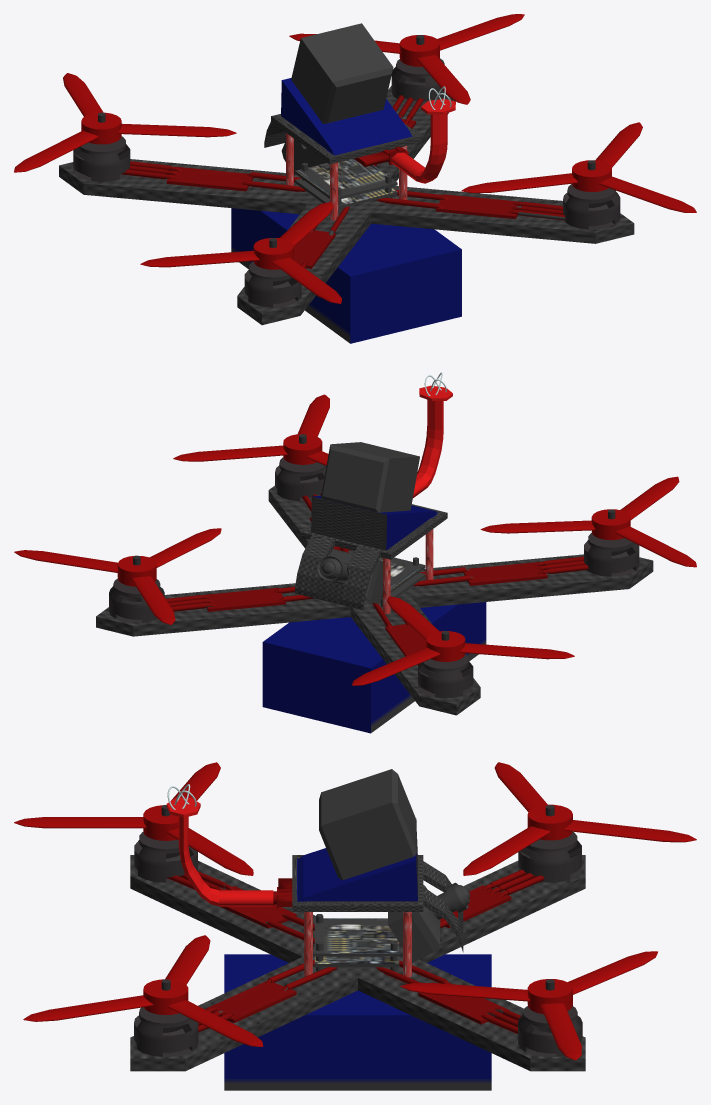
The model's file is x frame textured.FBX.
3 renders of one model, top to bottom at view 1: azimuth 30°, elevation 25°; view 2: azimuth 150°, elevation 25°; view 3: azimuth 270°, elevation 25°, orthographic. The views are drawn at different scales.
Visible parts, largest first — view 1: Box001, Box013, Box005, Box004, Cylinder026, Cylinder024, Cylinder025, Cylinder027, Cylinder019, Cylinder021, Motor, Box003 (+8 smaller); view 2: Box001, Box013, Box004, Box005, Cylinder025, Cylinder024, Cylinder027, Cylinder026, Cylinder020, Cylinder018, Motor003, Motor002 (+6 smaller); view 3: Box001, Box013, Box005, Box004, Cylinder027, Cylinder024, Cylinder026, Cylinder025, Box003, Motor, Cylinder022, Cylinder019 (+11 smaller).
Part boxes in pixels (x1,y1,x2,y2): Box001: (59, 86, 634, 325); Box013: (231, 208, 461, 343); Box005: (291, 23, 393, 123); Box004: (264, 78, 421, 164); Cylinder026: (461, 122, 696, 212); Cylinder024: (14, 73, 236, 172); Cylinder025: (140, 202, 341, 303); Cylinder027: (289, 14, 524, 104); Cylinder019: (376, 189, 565, 220); Cylinder021: (121, 161, 305, 191); Motor: (563, 160, 620, 229); Box003: (295, 159, 397, 199); Box001: (96, 485, 653, 715); Box013: (262, 602, 486, 733); Box004: (295, 495, 447, 609); Box005: (321, 442, 419, 512); Cylinder025: (480, 476, 696, 567); Cylinder024: (352, 596, 574, 685); Cylinder027: (14, 528, 221, 624); Cylinder026: (173, 394, 329, 465); Cylinder020: (413, 556, 588, 586); Cylinder018: (166, 586, 314, 611); Motor003: (418, 631, 473, 698); Motor002: (584, 509, 639, 576); Box001: (130, 855, 585, 1071); Box013: (224, 954, 491, 1090); Box005: (319, 769, 416, 880); Box004: (292, 818, 463, 952); Cylinder027: (400, 951, 657, 1060); Cylinder024: (463, 762, 696, 875); Cylinder026: (23, 935, 263, 1046); Cylinder025: (14, 762, 253, 875); Box003: (314, 918, 399, 956); Motor: (134, 979, 198, 1056); Cylinder022: (166, 797, 273, 906); Cylinder019: (198, 960, 337, 1032).
Size of the model in its own units: 27.4 by 12.06 by 26.55.
